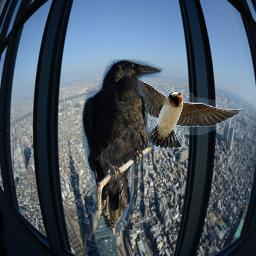Crow: (82, 59, 163, 240)
Swallow: (111, 59, 242, 149)
